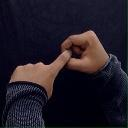hand: (8, 48, 72, 99), (60, 29, 109, 74)
